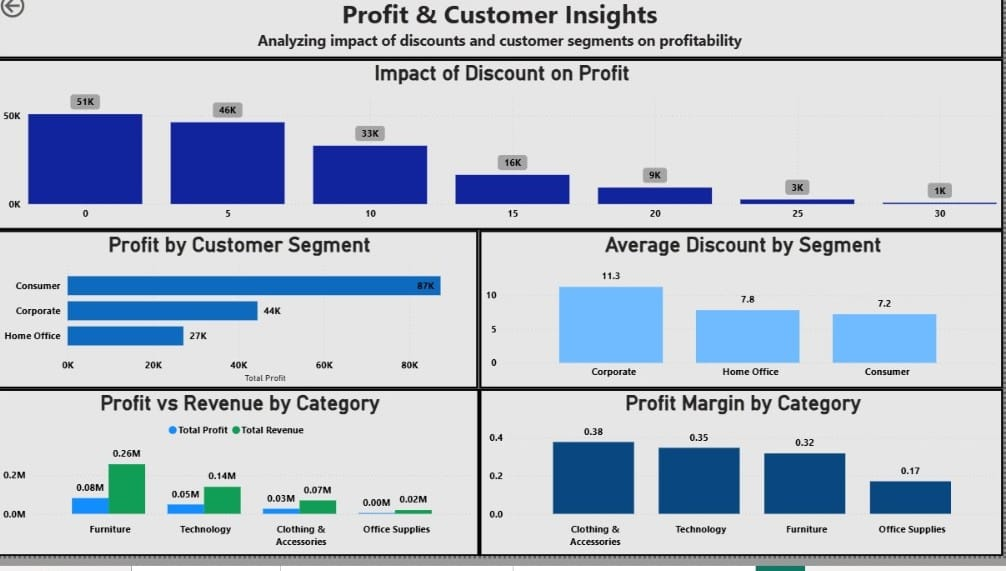

The dashboard page shown, as its layout file describes it:
{"tool":"powerbi","page":{"name":"Customer & Profit Analysis","canvas":[1280,720],"ordinal":1},"visuals":[{"type":"textbox","box":[0,0,1280.4,87.5],"z":0},{"type":"actionButton","box":[0,0,100,40],"z":1000},{"type":"columnChart","title":"Average Discount by Segment","fields":{"Category":["global_ecommerce_sales_dataset.Customer_Segment"],"Y":["global_ecommerce_sales_dataset.Avg Discount"]},"box":[614,305.4,666.5,202],"z":2000},{"type":"columnChart","title":"Profit Margin by Category","fields":{"Category":["global_ecommerce_sales_dataset.Product_Category"],"Y":["global_ecommerce_sales_dataset.Profit Margin"]},"box":[614,507.4,666.5,213.1],"z":3000},{"type":"clusteredColumnChart","title":"Profit vs Revenue by Category","fields":{"Category":["global_ecommerce_sales_dataset.Product_Category"],"Y":["global_ecommerce_sales_dataset.Total Profit","global_ecommerce_sales_dataset.Total Revenue"]},"box":[0,507.4,614,213.1],"z":4000},{"type":"barChart","title":"Profit by Customer Segment","fields":{"Category":["global_ecommerce_sales_dataset.Customer_Segment"],"Y":["global_ecommerce_sales_dataset.Total Profit"]},"box":[0,305.4,612.4,202],"z":5000},{"type":"columnChart","title":"Impact of  Discount on Profit","fields":{"Category":["global_ecommerce_sales_dataset.Discount_Percent"],"Y":["global_ecommerce_sales_dataset.Total Profit"]},"box":[0,87.5,1280.4,217.9],"z":6000}]}

Visuals, with their boxes in screenshot pixels (x1, y1, x2, y2), scaled from the page's 1280x720 canvas onto the 1006x571 screenshot:
textbox: bbox=(0, 0, 1005, 69)
actionButton: bbox=(0, 0, 79, 32)
"Average Discount by Segment" columnChart: bbox=(483, 242, 1005, 402)
"Profit Margin by Category" columnChart: bbox=(483, 402, 1005, 570)
"Profit vs Revenue by Category" clusteredColumnChart: bbox=(0, 402, 483, 570)
"Profit by Customer Segment" barChart: bbox=(0, 242, 481, 402)
"Impact of  Discount on Profit" columnChart: bbox=(0, 69, 1005, 242)
